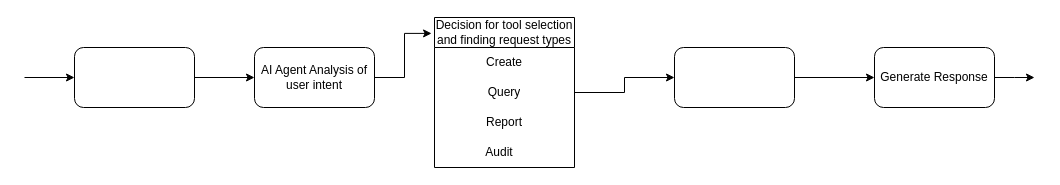
The diagram is 1060 pixels wide and 185 high, and some of its shapes have lost their labels. Each missing label, with the box of its shape:
PostgreSQL Execute Operation: (674, 46, 794, 108)
User Request: (74, 46, 194, 108)
